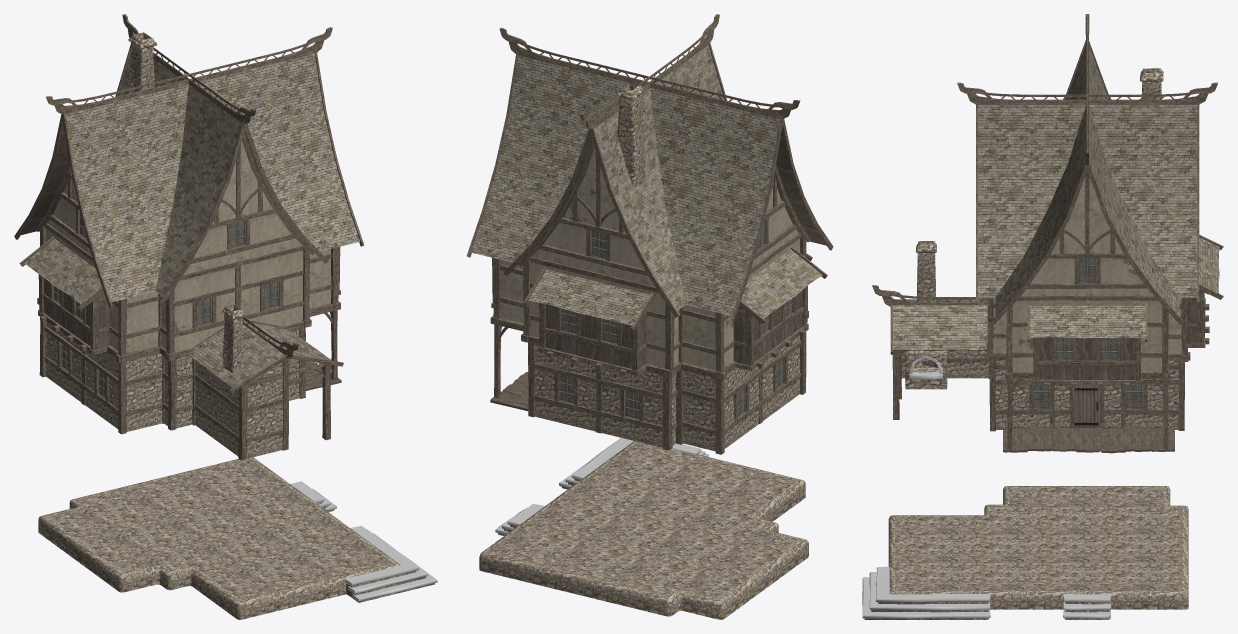
Rendered from mw_type_2_cottage_05.FBX.
3 views of the same model, side by side, from view 1: azimuth 30°, elevation 25°; view 2: azimuth 150°, elevation 25°; view 3: azimuth 270°, elevation 25° (orthographic). The views are drawn at different scales.
Parts seen in each view (by area): view 1: mw_type_2_cottage_building_05_roof, mw_type_2_cottage_building_05_bottom, mw_type_2_cottage_building_05_wood, mw_type_2_cottage_building_05_stone, mw_type_2_cottage_building_05_walls, mw_type_2_cottage_building_05; view 2: mw_type_2_cottage_building_05_roof, mw_type_2_cottage_building_05_bottom, mw_type_2_cottage_building_05_wood, mw_type_2_cottage_building_05_stone, mw_type_2_cottage_building_05_walls, mw_type_2_cottage_building_05, mw_type_2_cottage_building_05_wood_02; view 3: mw_type_2_cottage_building_05_roof, mw_type_2_cottage_building_05_bottom, mw_type_2_cottage_building_05_wood, mw_type_2_cottage_building_05_stone, mw_type_2_cottage_building_05_walls, mw_type_2_cottage_building_05_wood_02, mw_type_2_cottage_building_05.
Part boxes in pixels (x1,y1,x2,y2): mw_type_2_cottage_building_05_roof: [21, 51, 359, 387]; mw_type_2_cottage_building_05_bottom: [38, 457, 437, 619]; mw_type_2_cottage_building_05_wood: [14, 14, 364, 460]; mw_type_2_cottage_building_05_stone: [46, 32, 299, 458]; mw_type_2_cottage_building_05_walls: [46, 141, 331, 353]; mw_type_2_cottage_building_05: [52, 210, 279, 399]; mw_type_2_cottage_building_05_roof: [471, 45, 826, 325]; mw_type_2_cottage_building_05_bottom: [479, 438, 808, 619]; mw_type_2_cottage_building_05_wood: [466, 14, 833, 454]; mw_type_2_cottage_building_05_stone: [534, 82, 799, 451]; mw_type_2_cottage_building_05_walls: [501, 147, 799, 370]; mw_type_2_cottage_building_05: [559, 219, 793, 420]; mw_type_2_cottage_building_05_wood_02: [490, 372, 528, 410]; mw_type_2_cottage_building_05_roof: [892, 45, 1219, 350]; mw_type_2_cottage_building_05_bottom: [862, 486, 1188, 619]; mw_type_2_cottage_building_05_wood: [872, 14, 1223, 449]; mw_type_2_cottage_building_05_stone: [901, 68, 1178, 429]; mw_type_2_cottage_building_05_walls: [993, 178, 1181, 371]; mw_type_2_cottage_building_05_wood_02: [1003, 427, 1174, 453]; mw_type_2_cottage_building_05: [1032, 258, 1143, 429].
Bounding box in the file's own units: 1742 × 2792 × 1915.
